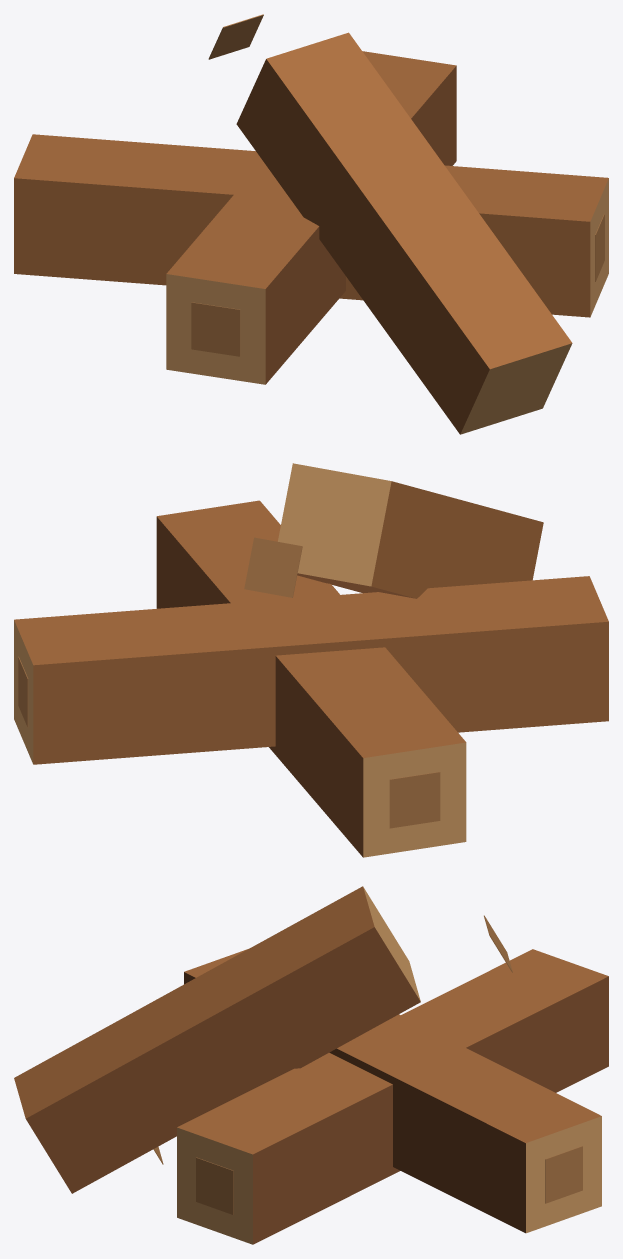
Rendered from campfire_unlit.glb.
3 views of the same model, one above another, from view 1: azimuth 30°, elevation 25°; view 2: azimuth 150°, elevation 25°; view 3: azimuth 270°, elevation 25° (orthographic). The views are drawn at different scales.
Parts seen in each view (by area): view 1: Low-poly voxel campfire; view 2: Low-poly voxel campfire; view 3: Low-poly voxel campfire.
Part boxes in pixels (x1=…): Low-poly voxel campfire: x1=14, y1=14, x2=608, y2=434; Low-poly voxel campfire: x1=14, y1=463, x2=608, y2=857; Low-poly voxel campfire: x1=14, y1=886, x2=608, y2=1244.
Bounding box in the file's own units: 2.25 × 1.28 × 2.75.
